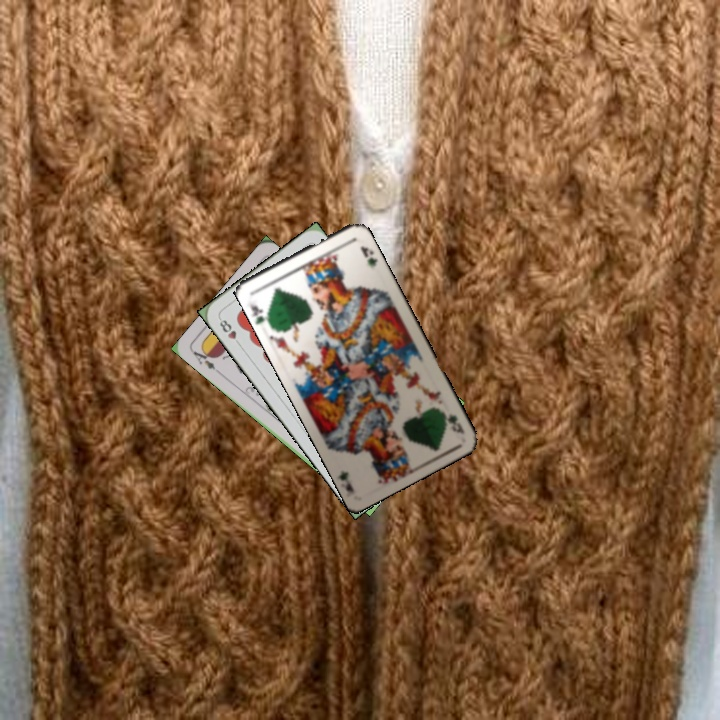EA: (188, 343, 218, 372)
GK: (437, 407, 467, 437), (246, 300, 273, 327)
H8: (215, 314, 244, 349)
